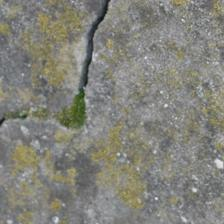Crack: (23, 0, 89, 66), (0, 50, 111, 74)
